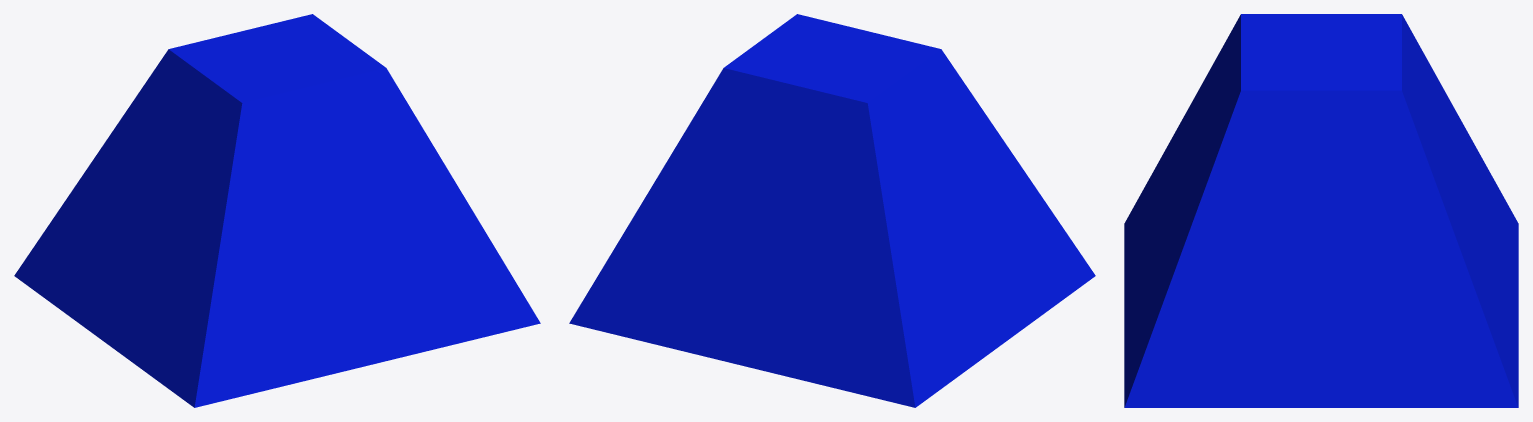
The model's file is yamuk.fbx.
3 renders of one model, left to right at view 1: azimuth 30°, elevation 25°; view 2: azimuth 150°, elevation 25°; view 3: azimuth 270°, elevation 25°, orthographic. The views are drawn at different scales.
Parts seen in each view (by area): view 1: pCube1; view 2: pCube1; view 3: pCube1.
Boxes of the visible parts, x1,y1,x2,y2 form: pCube1: (14, 14, 540, 407); pCube1: (569, 14, 1095, 407); pCube1: (1124, 14, 1518, 407).
Size of the model in its own units: 9.46 by 6.29 by 8.53.
